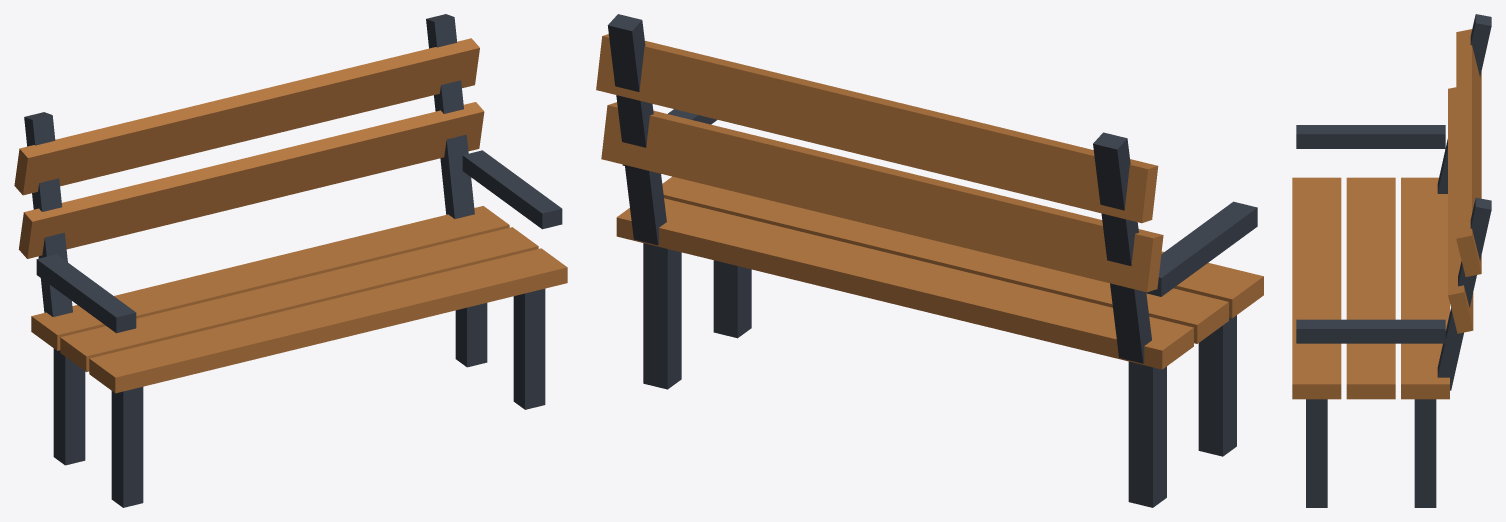
Rendered from Bench.fbx.
The picture shows the model from 3 angles, left to right: view 1: azimuth 30°, elevation 25°; view 2: azimuth 150°, elevation 25°; view 3: azimuth 270°, elevation 25°; orthographic projection. The views are drawn at different scales.
Parts seen in each view (by area): view 1: Bench; view 2: Bench; view 3: Bench.
Boxes of the visible parts, left/top/right/bottom form: Bench: left=14, top=14, right=567, bottom=507; Bench: left=596, top=14, right=1263, bottom=507; Bench: left=1292, top=14, right=1491, bottom=507.
Bounding box in the file's own units: 5.4 × 3.67 × 2.2.
1 material, 1 textured.
